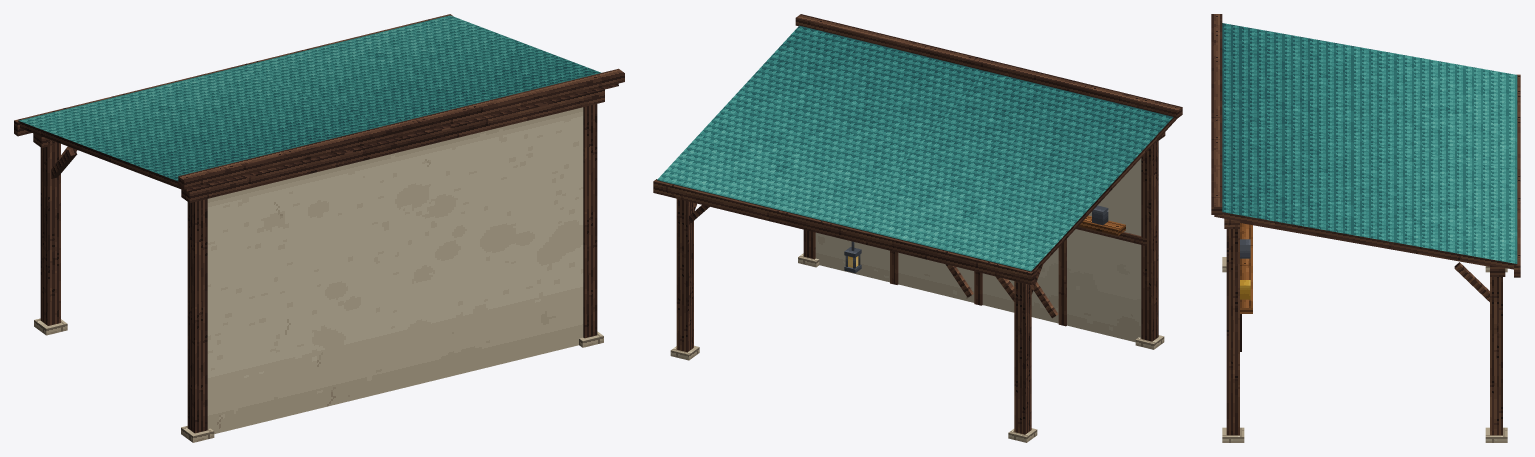
File: workshop_shelter_apothecary.glb
3 views of the same model, side by side, from view 1: azimuth 30°, elevation 25°; view 2: azimuth 150°, elevation 25°; view 3: azimuth 270°, elevation 25° (orthographic). The views are drawn at different scales.
Visible parts, largest first — view 1: wall_plaster, roof_slab_left, roof_slab_right, roof_ridge, back_beam, post_back_left, post_front_left, post_back_right, roof_fascia; view 2: roof_slab_left, roof_slab_right, wall_plaster, roof_fascia, roof_ridge, post_back_left, post_front_left, post_front_right, wall_stud_1; view 3: roof_slab_right, roof_slab_left, post_back_right, roof_ridge, post_front_right, roof_fascia, wall_shelf, side_beam_right, knee_side_right.
Part boxes in pixels (x1,y1,x2,y2): wall_plaster: (207,107,583,433); roof_slab_left: (18,68,402,191); roof_slab_right: (235,15,618,138); roof_ridge: (178,68,624,189); back_beam: (181,89,604,202); post_back_left: (187,199,207,433); post_front_left: (40,139,60,325); post_back_right: (583,104,597,338); roof_fascia: (14,14,453,136); roof_slab_left: (844,71,1176,272); roof_slab_right: (657,25,985,225); wall_plaster: (815,158,1141,342); roof_fascia: (653,179,1034,284); roof_ridge: (795,14,1182,118); post_back_left: (1141,141,1158,341); post_front_left: (1014,281,1031,434); post_front_right: (676,198,693,352); wall_stud_1: (1058,239,1066,326); roof_slab_right: (1214,117,1517,269); roof_slab_left: (1222,23,1517,169); post_back_right: (1226,229,1239,435); roof_ridge: (1211,14,1222,214); post_front_right: (1490,277,1502,435); roof_fascia: (1514,74,1520,277); wall_shelf: (1240,223,1252,313); side_beam_right: (1240,221,1489,266); knee_side_right: (1454,262,1489,301).
Bounding box in the file's own units: 6.5 × 3.81 × 4.41.
Materials: 1 (1 with a texture image).
